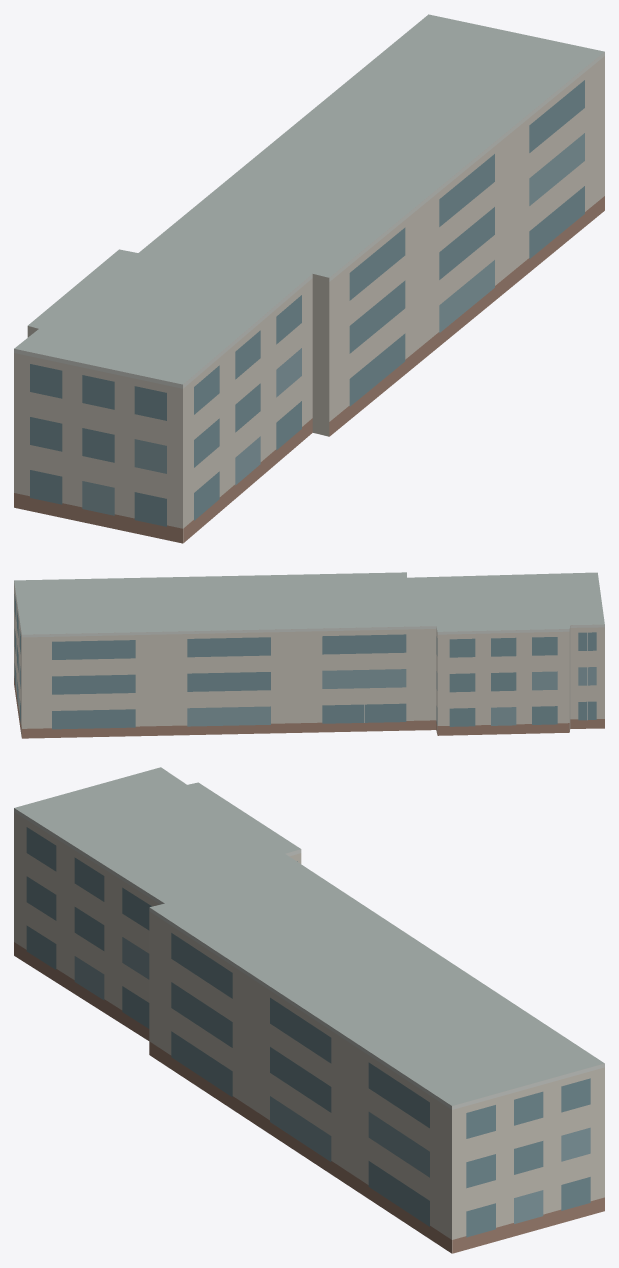
File: survey-upis-32588553.glb
3 renders of one model, top to bottom at view 1: azimuth 30°, elevation 25°; view 2: azimuth 150°, elevation 25°; view 3: azimuth 270°, elevation 25°, orthographic. The views are drawn at different scales.
Parts seen in each view (by area): view 1: survey-upis-32588553.tmp; view 2: survey-upis-32588553.tmp; view 3: survey-upis-32588553.tmp.
Part boxes in pixels (x1=…): survey-upis-32588553.tmp: x1=14, y1=14, x2=604, y2=543; survey-upis-32588553.tmp: x1=14, y1=572, x2=604, y2=738; survey-upis-32588553.tmp: x1=14, y1=767, x2=604, y2=1253.
Size of the model in its own units: 45.04 by 9.15 by 33.18.
